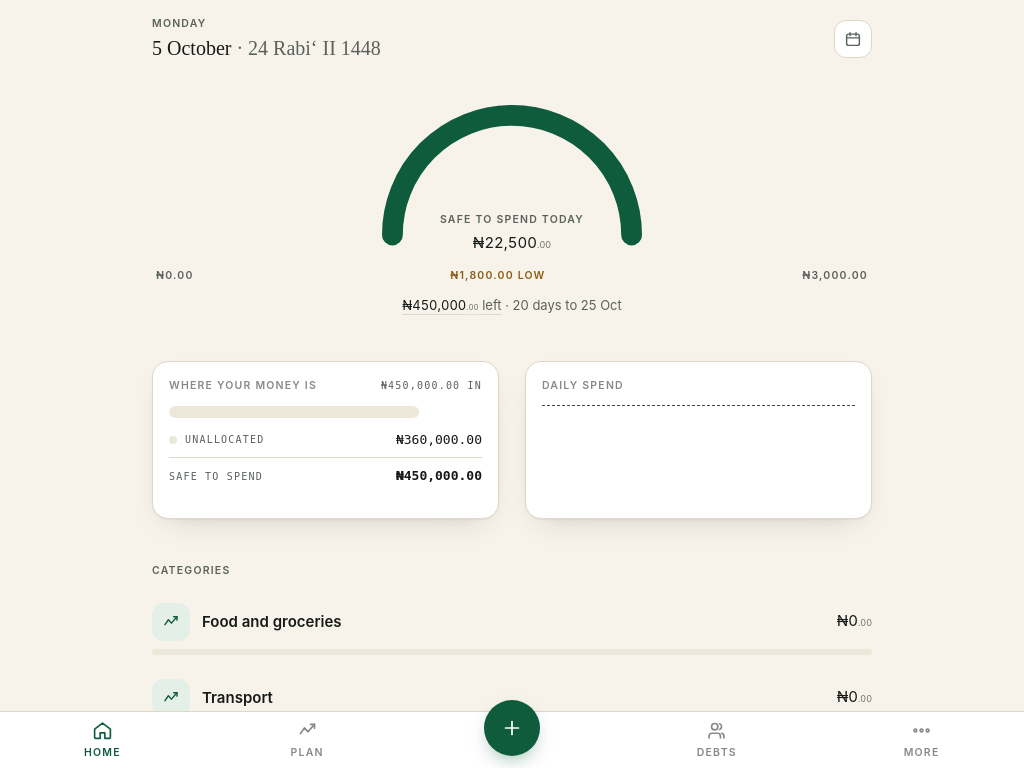
three taps plus the amount › closes the sheet and confirms twice — a toast and one announcement
The image size is (1024, 768).
Expected: the heading "Safe to spend today" is shown, [440,212,584,228]
Step 1. Click the button named "Add a movement" → (512, 728), box [484,700,540,756]
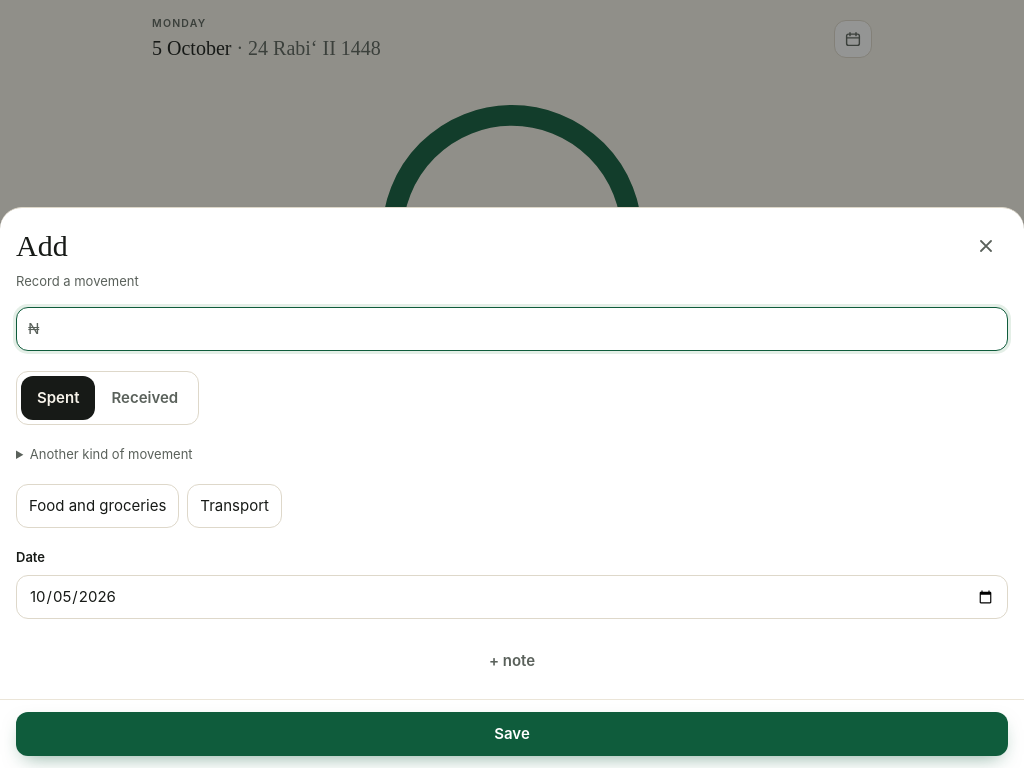
Step 2. Type keys "2000"
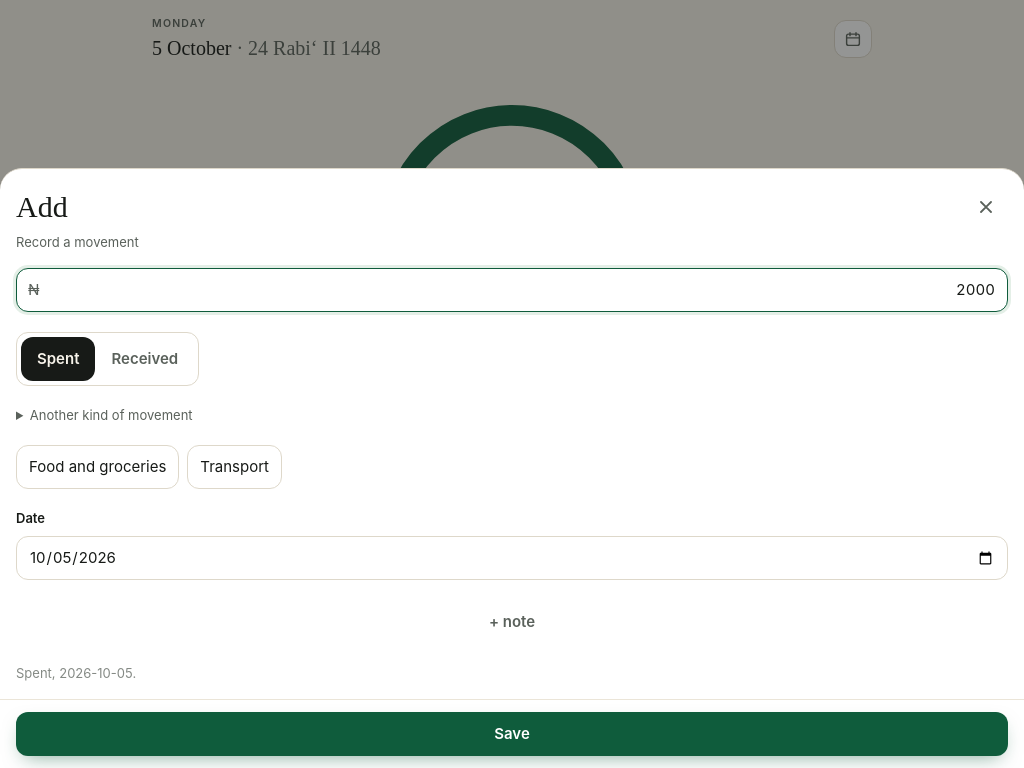
Step 3. Click the radio button labelled "Food and groceries" → (98, 467), box [16,445,179,489]
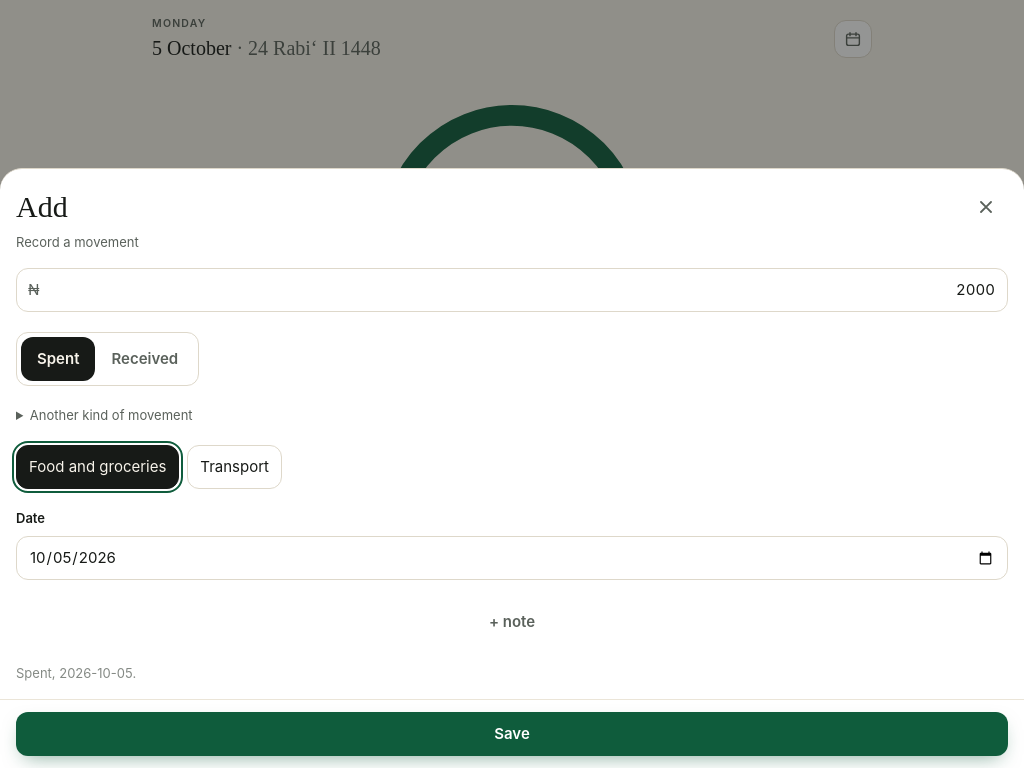
Step 4. Click the button "Save" → (512, 734), box [16,712,1008,756]
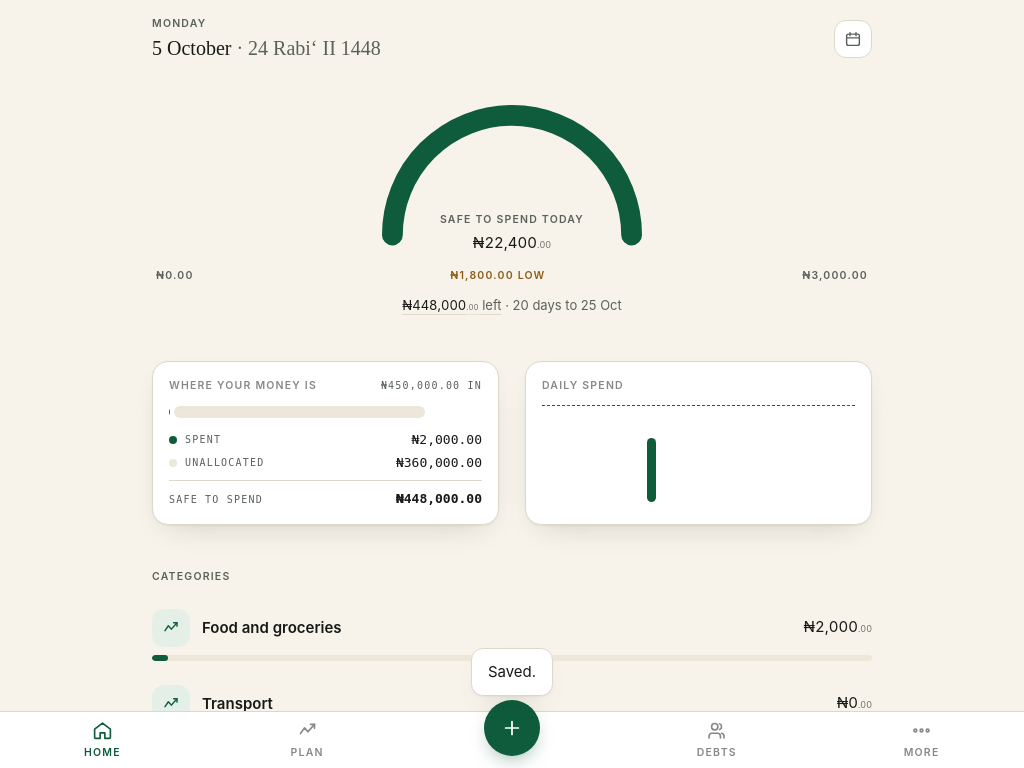
Result: the text "Saved." is shown at [471,648,553,696]
Result: the dialog is gone
